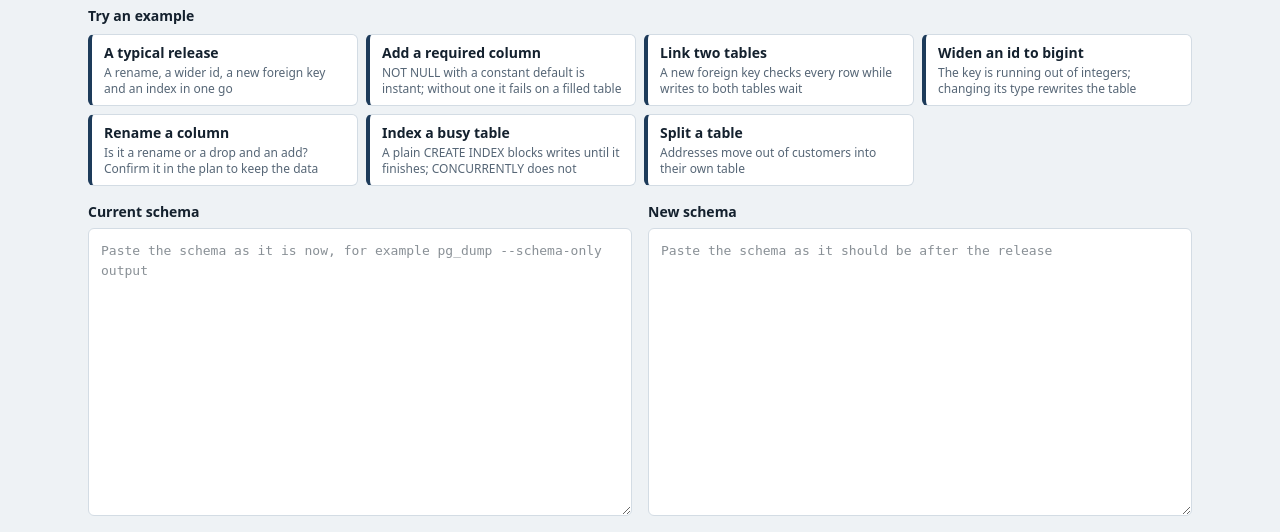
Scenario: Compare two schemas › runs diff, report and plan on both schemas and shows the overall risk
The width and height of the screenshot is (1280, 532).
What coordinates should you click on to do the following:
click the button "A typical release"
I would click on:
 (223, 70)
Its box is [88, 34, 358, 106].
(page scrolled)
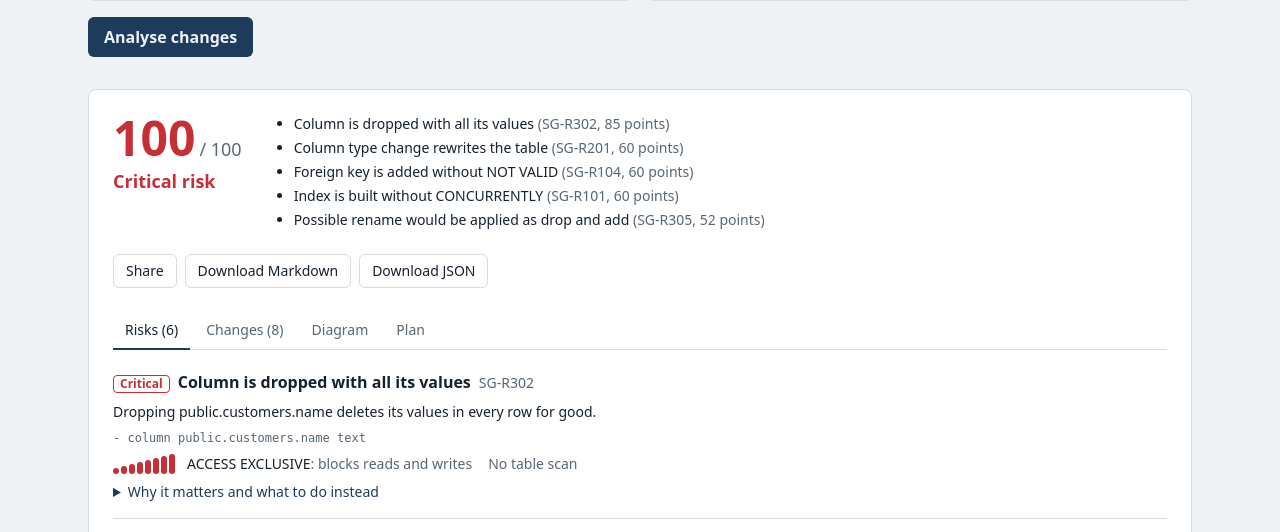
Now the element named "Overall risk" shows "Critical risk", box [113, 105, 765, 229]
